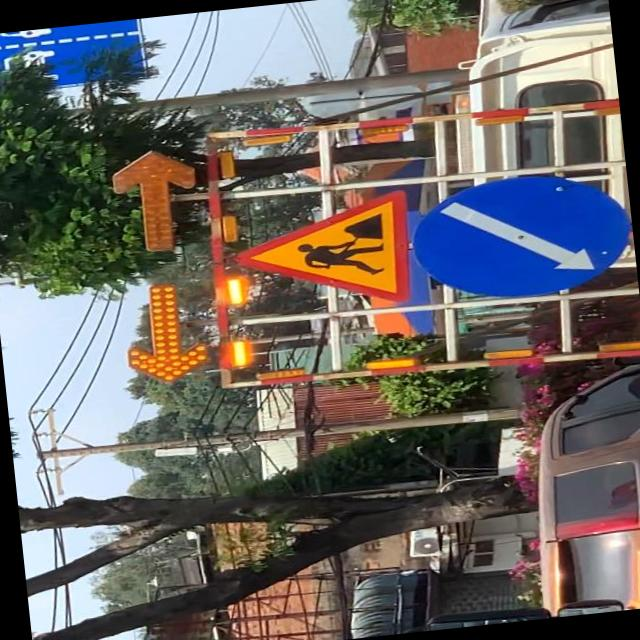R-302b: (407, 166, 637, 311)
